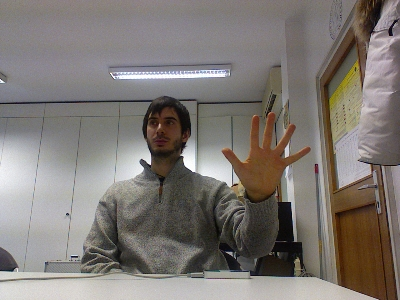布: (220, 110, 312, 199)
